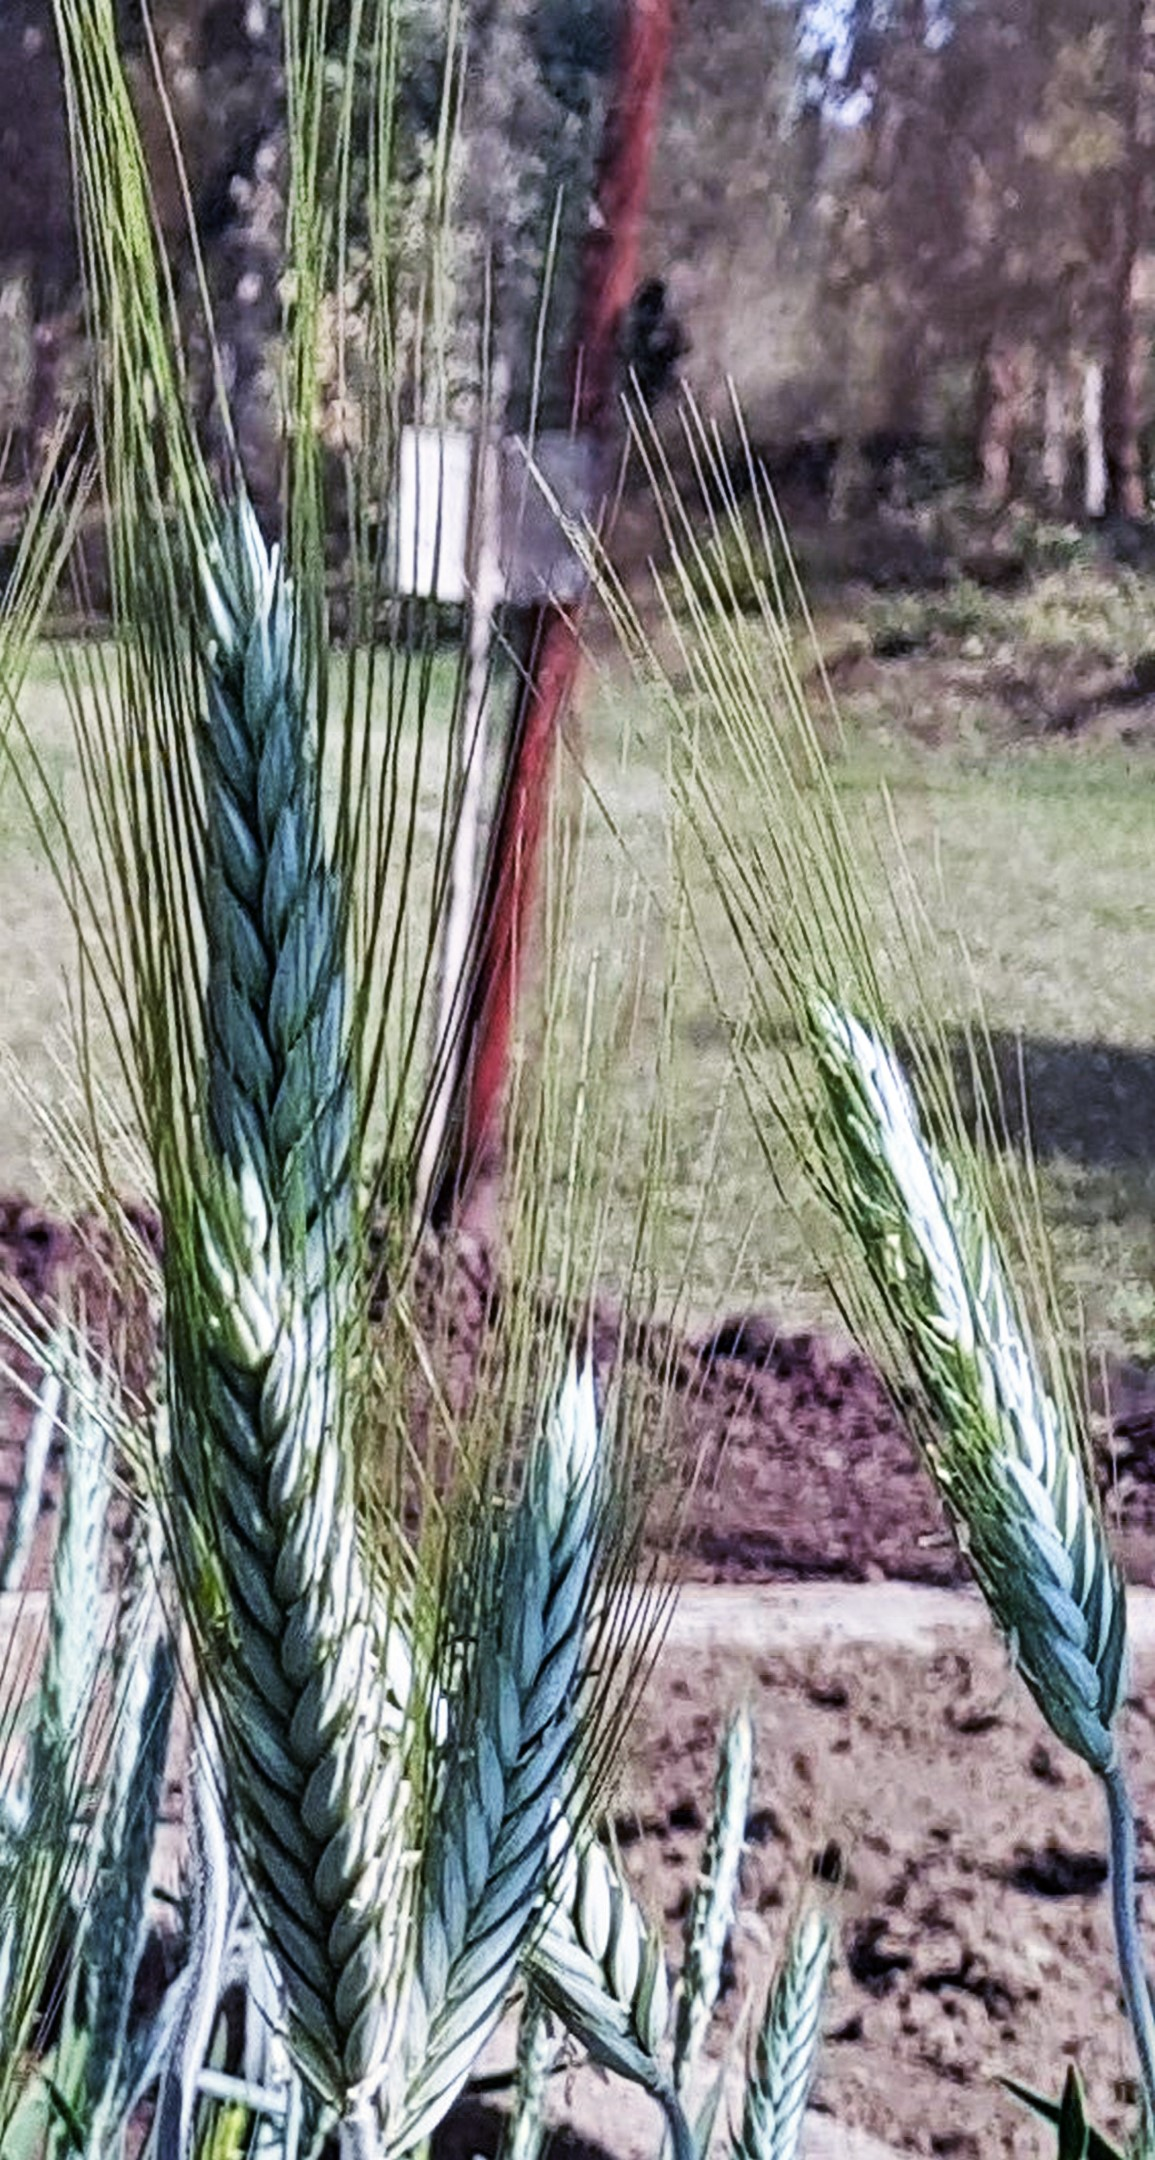Healthy Wheat: (425, 1380, 639, 2006)
